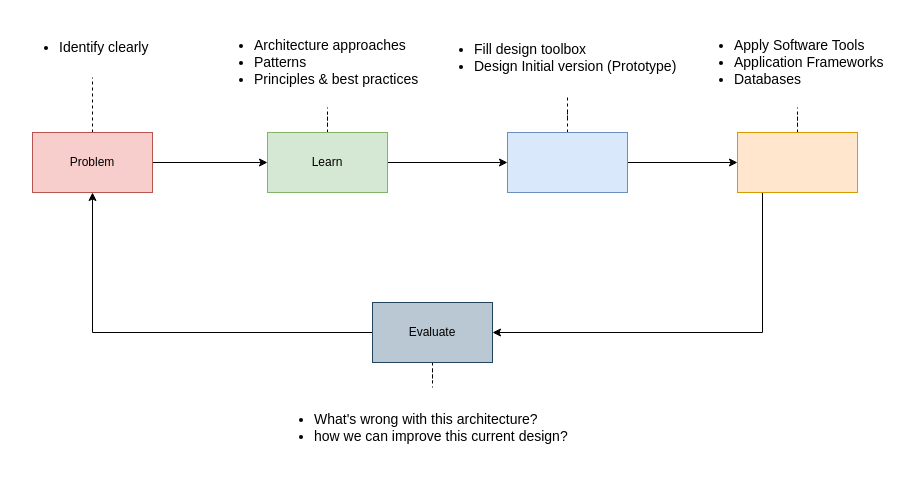
The diagram is 919 pixels wide and 484 high, and some of its shapes have lost their labels. Each missing label, with the box of its shape:
Adapt: (736, 132, 858, 192)
Design: (506, 132, 628, 192)
